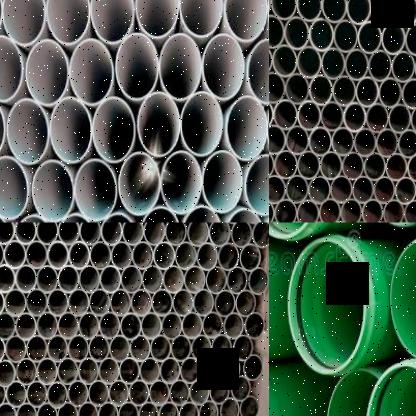pipe: (287, 239, 366, 375), (391, 236, 416, 360), (115, 32, 159, 100), (69, 38, 114, 104), (92, 96, 136, 162), (202, 34, 245, 101), (159, 34, 202, 101), (26, 39, 69, 106), (180, 92, 224, 156), (50, 97, 92, 164), (365, 361, 416, 416), (7, 98, 49, 164), (138, 92, 180, 157), (160, 150, 202, 214), (118, 152, 160, 216), (74, 158, 116, 222), (227, 96, 268, 161), (202, 150, 242, 214), (327, 368, 380, 416), (31, 160, 72, 222), (2, 0, 46, 47), (90, 0, 134, 44), (47, 0, 89, 46), (224, 0, 267, 42), (0, 156, 28, 220), (179, 0, 223, 38), (134, 0, 178, 37), (0, 35, 23, 103), (245, 153, 269, 215), (248, 38, 269, 104), (308, 16, 334, 52), (284, 16, 310, 50), (333, 18, 358, 52), (321, 46, 346, 80), (357, 19, 382, 53), (380, 22, 405, 56), (284, 72, 310, 104), (272, 44, 297, 77), (297, 46, 322, 78), (344, 48, 369, 80), (332, 74, 356, 107), (273, 99, 298, 130), (320, 100, 344, 132), (309, 74, 333, 106), (391, 50, 415, 82), (368, 50, 392, 82), (355, 76, 379, 108), (297, 100, 321, 131), (365, 102, 389, 133), (378, 77, 402, 108), (286, 125, 310, 155), (343, 102, 367, 132), (296, 150, 320, 180), (285, 174, 309, 204), (274, 150, 298, 180), (46, 240, 70, 270), (308, 127, 332, 156), (330, 127, 354, 156), (319, 150, 342, 180), (388, 104, 411, 134), (3, 239, 26, 269), (25, 240, 48, 270), (181, 206, 223, 222), (330, 175, 353, 204), (385, 152, 408, 181), (342, 150, 364, 180), (354, 128, 376, 158), (376, 128, 398, 158), (68, 240, 90, 270), (153, 240, 175, 270), (239, 242, 261, 272), (15, 264, 37, 294), (36, 264, 58, 294), (99, 264, 121, 294), (141, 264, 163, 294), (36, 310, 58, 340), (78, 310, 100, 340), (57, 310, 79, 340), (36, 356, 58, 386), (370, 0, 395, 26), (363, 152, 386, 180), (140, 206, 180, 222), (308, 175, 330, 204), (174, 241, 196, 270), (196, 242, 218, 271), (47, 287, 69, 316), (15, 311, 37, 340), (90, 240, 111, 270), (111, 240, 132, 270), (58, 264, 79, 294), (79, 264, 100, 294), (121, 264, 142, 294), (26, 287, 47, 317), (5, 287, 26, 317), (99, 310, 120, 340), (373, 176, 395, 204), (394, 176, 416, 204), (132, 241, 154, 269), (217, 242, 239, 270), (205, 266, 227, 294), (247, 267, 269, 295), (151, 288, 173, 316), (161, 312, 183, 340), (140, 312, 162, 340), (67, 334, 89, 362), (129, 334, 151, 362), (68, 287, 89, 316), (89, 287, 110, 316), (131, 288, 152, 317), (47, 333, 68, 362), (346, 0, 370, 25), (182, 310, 202, 340), (58, 356, 78, 386), (320, 0, 346, 23), (394, 0, 416, 27), (352, 176, 373, 204), (163, 265, 184, 293), (184, 265, 205, 293), (226, 266, 247, 294), (193, 288, 214, 316), (110, 288, 131, 316), (172, 288, 193, 316), (214, 288, 235, 316), (235, 288, 256, 316), (223, 312, 244, 340), (120, 312, 141, 340), (191, 334, 212, 362), (150, 334, 171, 362), (26, 334, 47, 362), (109, 334, 130, 362), (5, 334, 26, 362), (159, 356, 180, 384), (139, 356, 160, 384), (119, 356, 140, 384), (78, 356, 99, 384), (98, 356, 119, 384), (16, 357, 37, 385), (128, 378, 149, 406), (149, 378, 170, 406), (26, 379, 47, 407), (47, 380, 68, 408), (243, 353, 263, 382), (296, 198, 319, 223), (220, 356, 242, 382), (397, 128, 416, 158), (211, 334, 232, 361), (170, 334, 191, 361), (108, 379, 129, 406), (88, 379, 109, 406), (6, 379, 27, 406), (224, 208, 264, 222), (202, 311, 222, 339), (89, 334, 109, 362), (180, 356, 200, 384), (169, 378, 189, 406), (274, 198, 297, 222), (361, 198, 383, 223), (296, 0, 322, 21), (232, 334, 253, 360), (230, 376, 251, 402), (209, 378, 230, 404), (269, 70, 285, 104), (269, 14, 285, 48), (200, 356, 220, 383), (68, 379, 88, 406), (245, 311, 264, 339), (164, 223, 188, 245), (186, 223, 208, 247), (208, 223, 230, 247), (382, 198, 403, 223), (270, 0, 296, 20), (190, 378, 209, 405), (269, 124, 286, 154), (35, 223, 58, 245), (319, 198, 340, 222), (341, 198, 362, 222), (230, 223, 251, 247), (269, 174, 286, 203), (58, 223, 80, 245), (100, 223, 122, 245), (122, 223, 144, 245), (400, 78, 416, 108), (0, 263, 16, 293), (14, 223, 36, 244), (79, 223, 100, 245), (143, 223, 164, 245), (0, 312, 16, 340), (0, 358, 16, 386), (252, 223, 269, 249), (219, 396, 240, 416), (240, 395, 259, 416), (404, 22, 416, 55), (198, 399, 218, 416), (97, 400, 118, 416), (178, 400, 199, 416), (0, 96, 5, 160), (118, 400, 138, 416), (158, 400, 178, 416), (138, 400, 158, 416), (16, 401, 37, 416), (403, 198, 416, 222), (0, 222, 14, 244), (78, 400, 97, 416), (57, 401, 77, 416), (36, 401, 56, 416), (406, 152, 416, 181), (0, 401, 16, 416), (410, 104, 416, 134), (269, 149, 274, 179), (0, 334, 5, 363), (0, 381, 5, 407), (0, 0, 3, 42), (0, 238, 4, 268), (0, 288, 4, 316), (414, 50, 416, 82)
